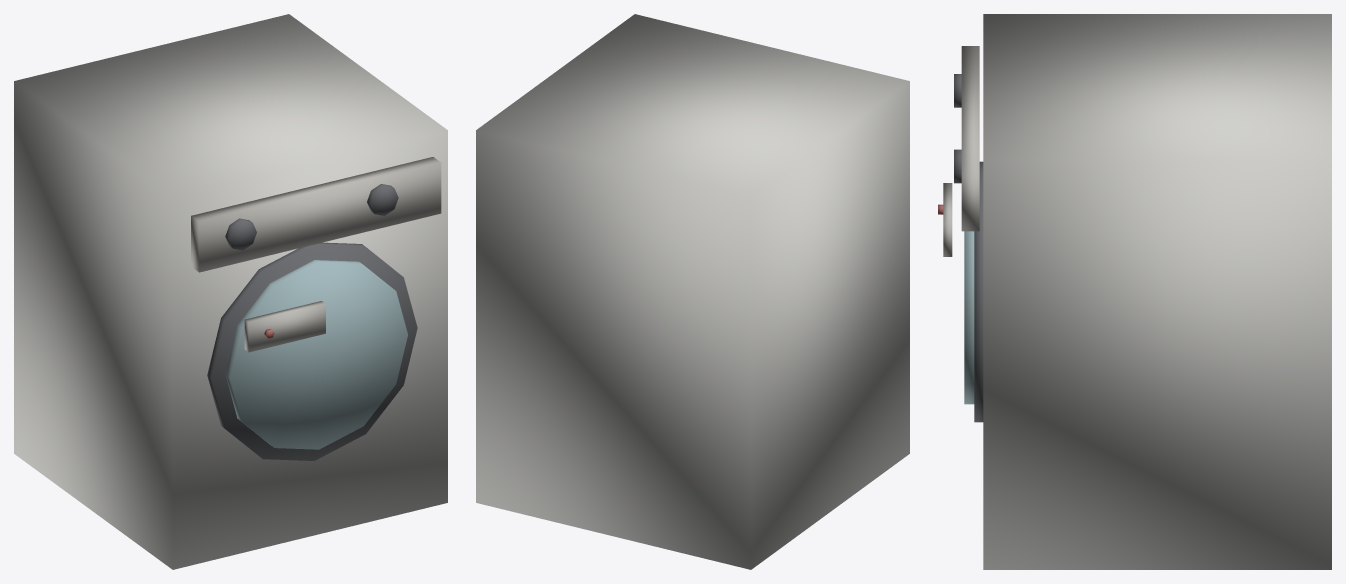
Rendered from domestic_dryer.glb.
The picture shows the model from 3 angles, left to right: view 1: azimuth 30°, elevation 25°; view 2: azimuth 150°, elevation 25°; view 3: azimuth 270°, elevation 25°; orthographic projection. The views are drawn at different scales.
Visible parts, largest first — view 1: world; view 2: world; view 3: world.
Boxes of the visible parts, <box> form: world: <box>14,14,447,569</box>; world: <box>476,14,909,569</box>; world: <box>938,14,1331,569</box>.
Size of the model in its own units: 0.68 by 0.88 by 0.7685.
